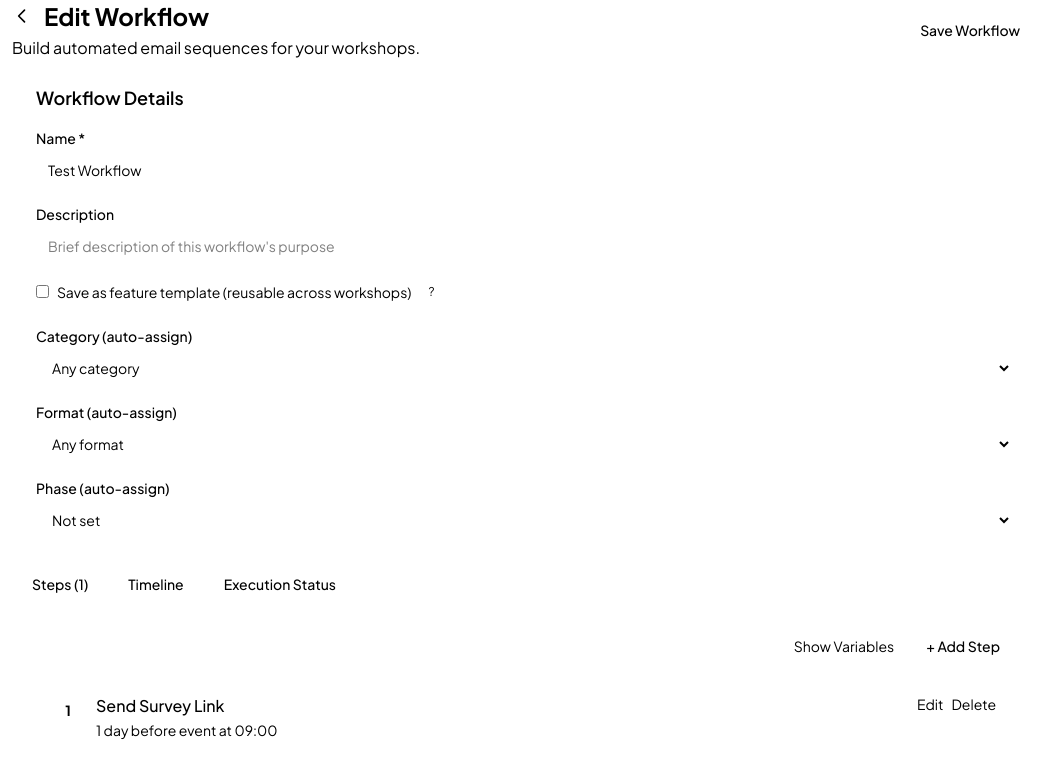
Test: StepCard: stale emailTemplateId is cleared — subject/body visible for SEND_SURVEY_LINK step
What coordinates should you click on to do the following:
click the button "Edit"
I would click on:
 (930, 704)
Its box is [917, 694, 943, 714].
(page scrolled)
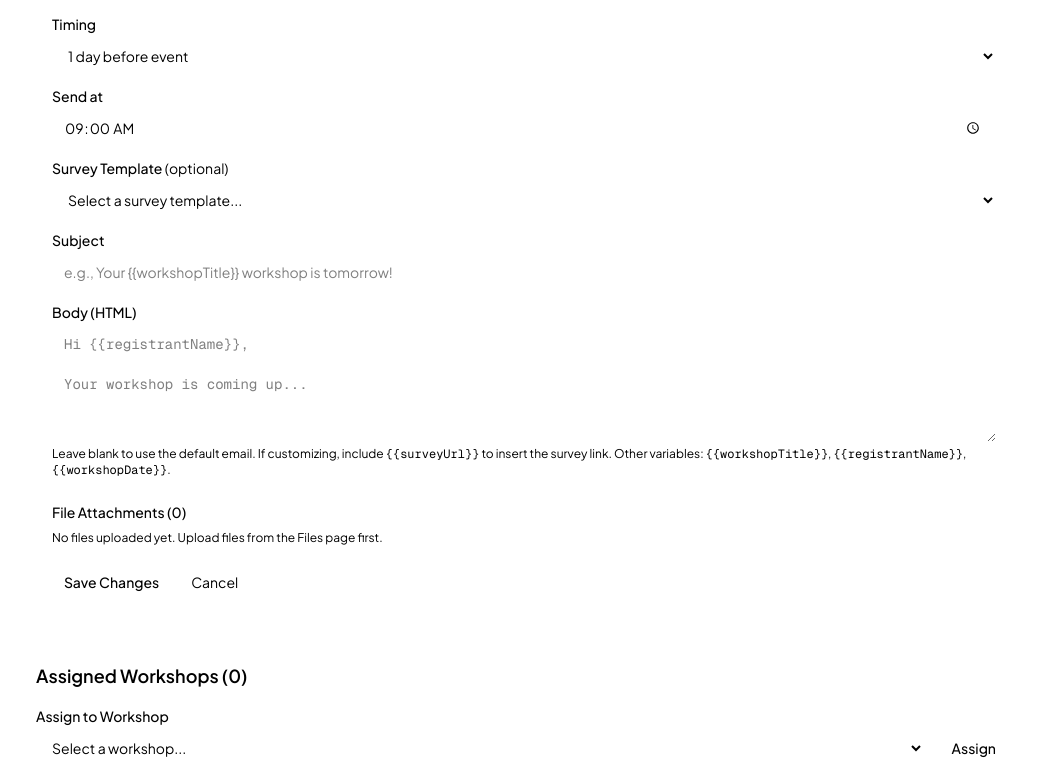
Expected: the field with placeholder "e.g., Your {{workshopTitle}} workshop is tomorrow!" is shown, [52, 254, 996, 290]
Expected: the text box with placeholder "Hi {{registrantName}}, Your workshop is coming up..." is shown, [52, 326, 996, 442]
